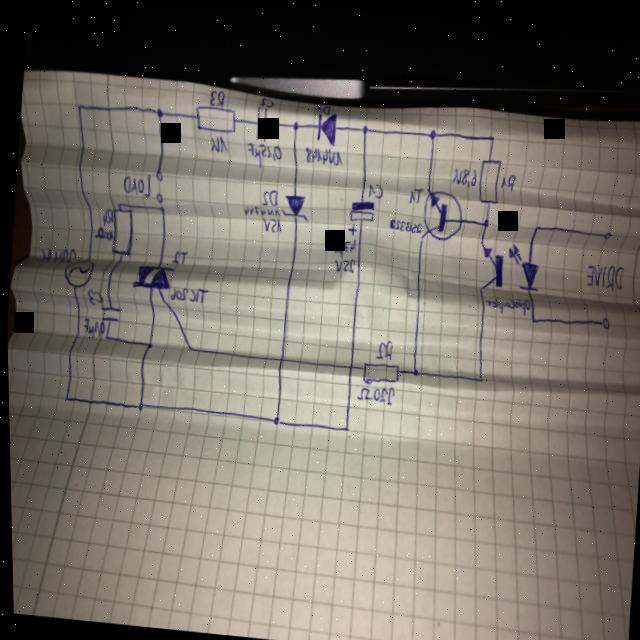capacitor: (343, 194, 375, 235), (252, 103, 269, 141), (97, 302, 121, 321)
crossover: (344, 360, 353, 369), (274, 353, 283, 362)
diode: (277, 189, 310, 221), (313, 107, 337, 145)
junction: (426, 124, 437, 140), (267, 410, 280, 423), (153, 104, 164, 117), (358, 121, 369, 134), (288, 116, 299, 129), (132, 399, 143, 410), (408, 364, 417, 375), (479, 214, 488, 225), (142, 339, 152, 348), (530, 220, 539, 229), (475, 371, 482, 380), (340, 421, 347, 430), (113, 199, 121, 206), (488, 131, 495, 139), (157, 204, 164, 211), (75, 100, 82, 107), (185, 343, 192, 350), (527, 313, 534, 320), (102, 332, 108, 338), (61, 394, 67, 400)
resistor: (475, 153, 502, 204), (192, 101, 236, 132), (107, 205, 133, 256), (359, 357, 398, 385)
source: (60, 253, 93, 287)
terminal: (597, 311, 609, 327), (153, 189, 163, 207), (153, 167, 163, 180), (600, 227, 610, 236)
text: (583, 256, 624, 289), (244, 138, 282, 168), (482, 290, 530, 313), (34, 242, 76, 264), (354, 380, 394, 403), (119, 168, 151, 195), (302, 143, 343, 164), (167, 283, 207, 302), (327, 232, 355, 257), (449, 162, 477, 185), (386, 214, 421, 231), (79, 315, 104, 338), (241, 201, 279, 216), (207, 130, 230, 153), (372, 335, 393, 358), (330, 253, 355, 272), (258, 184, 278, 205), (405, 183, 425, 203), (259, 214, 281, 231), (84, 285, 102, 305), (91, 224, 113, 240), (365, 178, 383, 197), (498, 169, 516, 188), (207, 86, 225, 105), (169, 246, 187, 264), (99, 205, 113, 224), (313, 101, 330, 112), (257, 94, 274, 105)
transistor: (417, 184, 463, 242)
